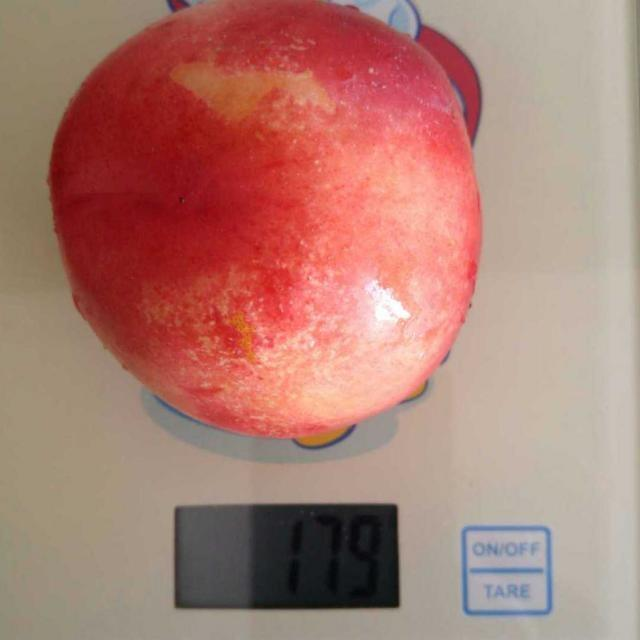nectarine: (49, 17, 477, 408)
